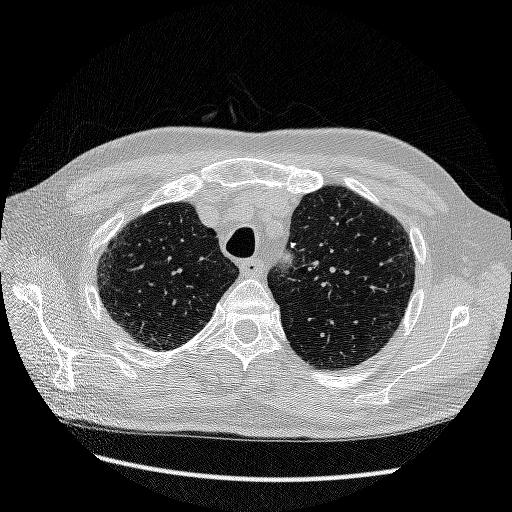nodule: (288, 240, 298, 250)
